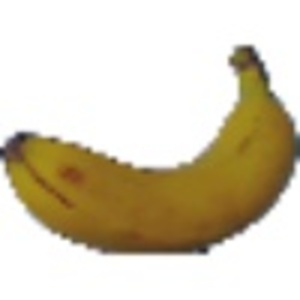banana: (2, 38, 299, 262)
